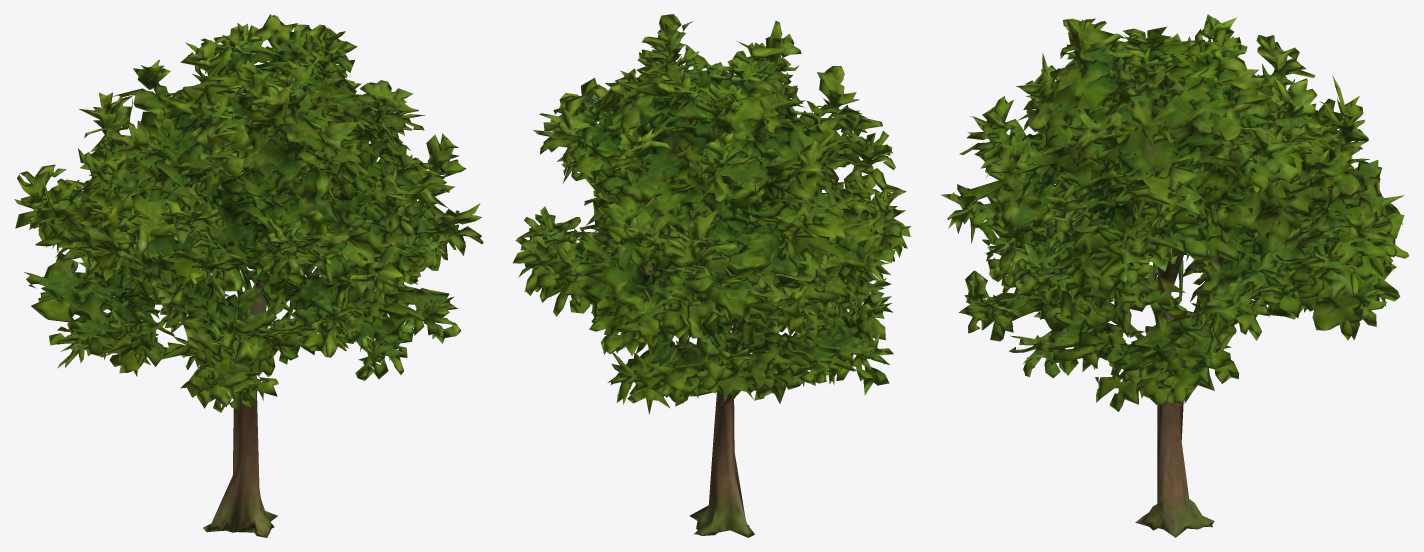
File: lib_tp_doan.near.glb
The picture shows the model from 3 angles, left to right: view 1: azimuth 30°, elevation 25°; view 2: azimuth 150°, elevation 25°; view 3: azimuth 270°, elevation 25°; orthographic projection. The views are drawn at different scales.
Size of the model in its own units: 1.55 by 1.99 by 1.65.
Materials: 1 (1 with a texture image).
